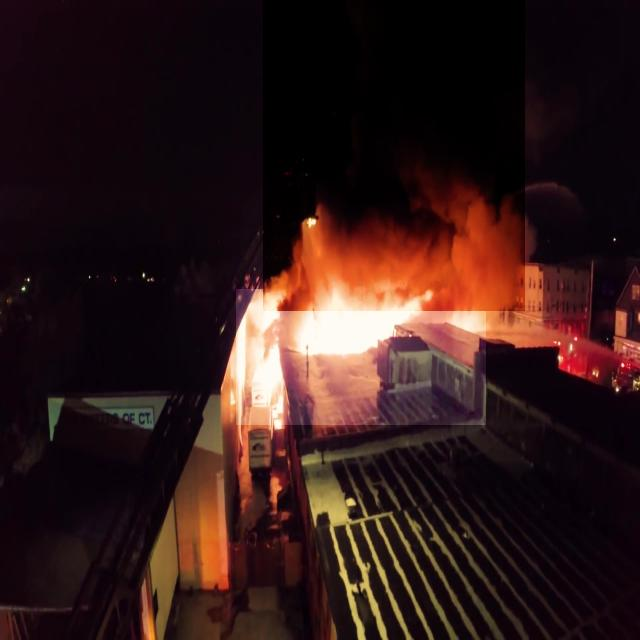Fire: (236, 290, 486, 426)
Smoke: (263, 0, 525, 311)
